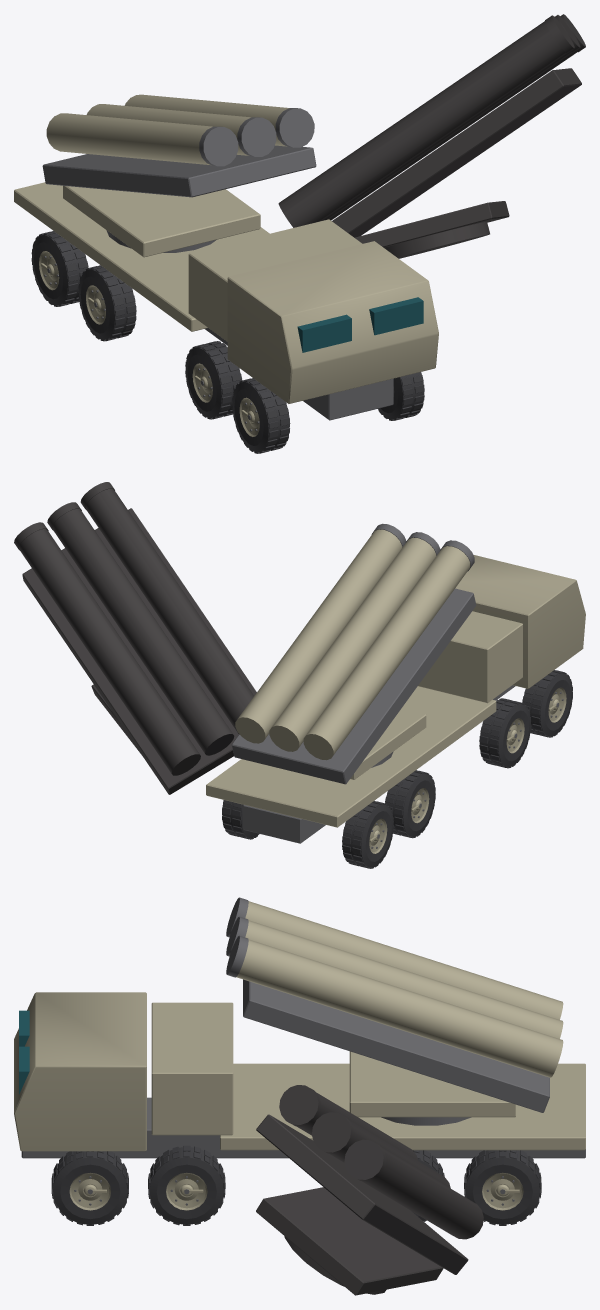
File: brahmos__brahmos_battery.glb
The picture shows the model from 3 angles, top to bottom: view 1: azimuth 30°, elevation 25°; view 2: azimuth 150°, elevation 25°; view 3: azimuth 270°, elevation 25°; orthographic projection. The views are drawn at different scales.
Parts seen in each view (by area): view 1: Hull_Mesh, Wreck, Gun_Mesh, Turret_Mesh, Wheel_L1_Mesh, Wheel_L3_Mesh, Wheel_L2_Mesh, Wheel_L0_Mesh, Wheel_R3_Mesh; view 2: Wreck, Gun_Mesh, Hull_Mesh, Wheel_L2_Mesh, Wheel_L0_Mesh, Wheel_L1_Mesh, Wheel_L3_Mesh, Turret_Mesh, Wheel_R0_Mesh; view 3: Hull_Mesh, Gun_Mesh, Wreck, Turret_Mesh, Wheel_R2_Mesh, Wheel_R3_Mesh, Wheel_R0_Mesh.
Boxes of the visible parts, <box> form: Hull_Mesh: <box>14,182,438,420</box>; Wreck: <box>49,14,585,417</box>; Gun_Mesh: <box>42,94,316,197</box>; Turret_Mesh: <box>63,185,260,257</box>; Wheel_L1_Mesh: <box>78,265,136,341</box>; Wheel_L3_Mesh: <box>232,378,290,453</box>; Wheel_L2_Mesh: <box>185,341,242,419</box>; Wheel_L0_Mesh: <box>31,231,88,306</box>; Wheel_R3_Mesh: <box>378,372,424,420</box>; Wreck: <box>14,482,542,838</box>; Gun_Mesh: <box>231,523,476,784</box>; Hull_Mesh: <box>206,555,585,843</box>; Wheel_L2_Mesh: <box>479,698,531,768</box>; Wheel_L0_Mesh: <box>342,801,393,868</box>; Wheel_L1_Mesh: <box>385,770,435,838</box>; Wheel_L3_Mesh: <box>522,670,572,737</box>; Turret_Mesh: <box>350,708,426,779</box>; Wheel_R0_Mesh: <box>222,800,259,839</box>; Hull_Mesh: <box>14,992,585,1158</box>; Gun_Mesh: <box>226,897,563,1112</box>; Wreck: <box>86,1085,483,1295</box>; Turret_Mesh: <box>349,1051,515,1125</box>; Wheel_R2_Mesh: <box>148,1145,225,1225</box>; Wheel_R3_Mesh: <box>51,1151,128,1225</box>; Wheel_R0_Mesh: <box>464,1150,541,1225</box>.
Size of what is drawn, in the model's own units: 8.38 by 4.45 by 8.6.
